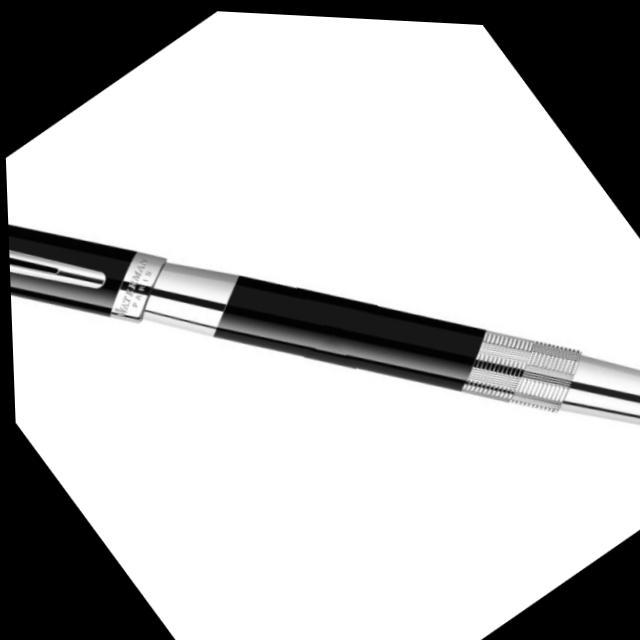pencil: (1, 205, 640, 469)
